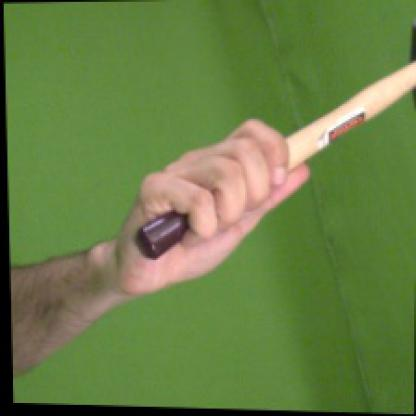Hand: (116, 117, 310, 292)
